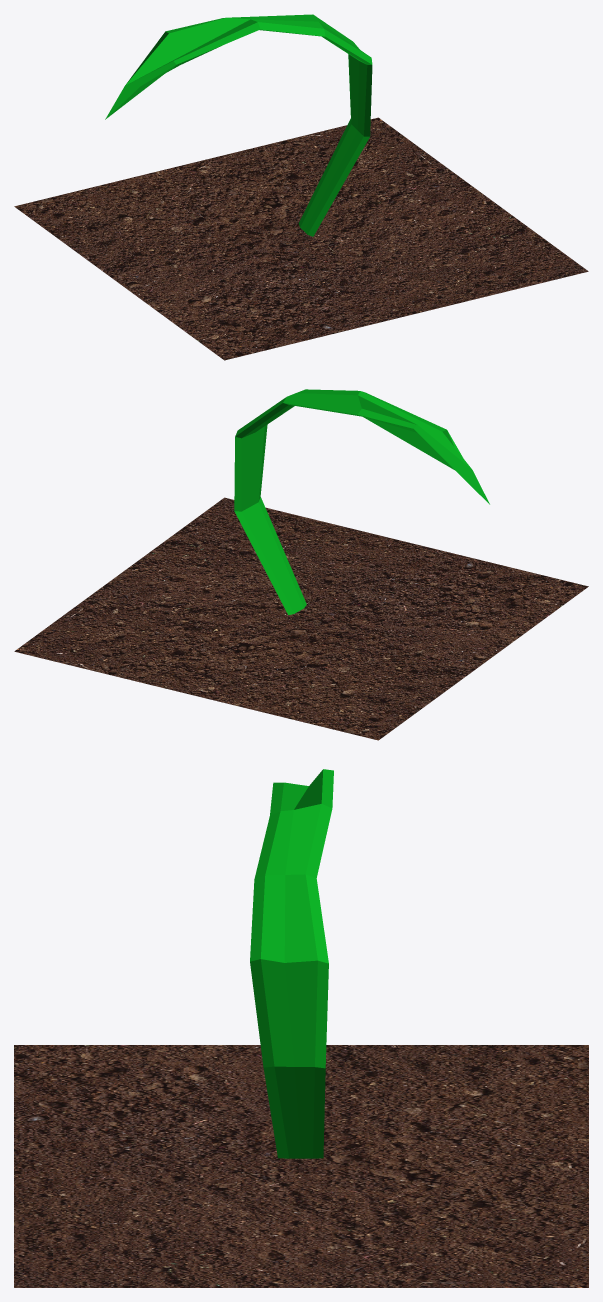
The model's file is grass4.fbx.
3 views of the same model, one above another, from view 1: azimuth 30°, elevation 25°; view 2: azimuth 150°, elevation 25°; view 3: azimuth 270°, elevation 25° (orthographic). The views are drawn at different scales.
Visible parts, largest first — view 1: floor.002, GrassLeaf.002; view 2: floor.002, GrassLeaf.002; view 3: floor.002, GrassLeaf.002.
Boxes of the visible parts, x1,y1,x2,y2 form: floor.002: (14,117,588,360); GrassLeaf.002: (105,14,372,236); floor.002: (14,497,588,740); GrassLeaf.002: (234,389,489,615); floor.002: (14,1045,588,1287); GrassLeaf.002: (250,769,333,1158).
Size of what is drawn, in the model's own units: 2.06 by 1.23 by 2.
2 materials, 1 textured.
